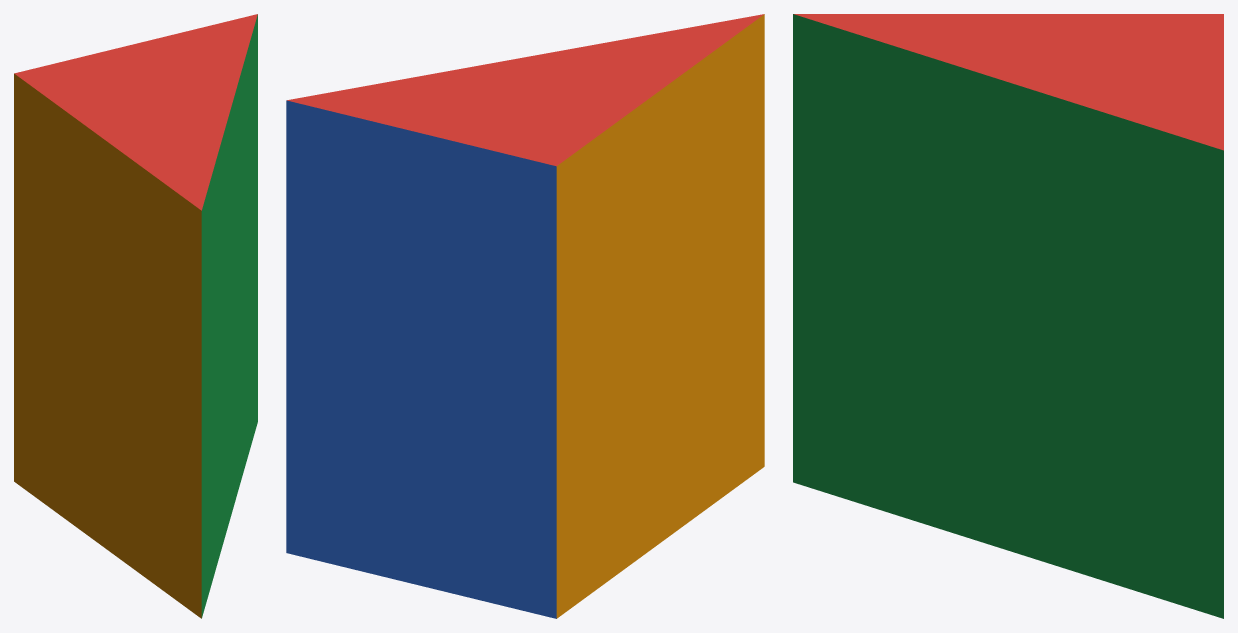
File: prisma-segitiga-siku.glb
3 renders of one model, left to right at view 1: azimuth 30°, elevation 25°; view 2: azimuth 150°, elevation 25°; view 3: azimuth 270°, elevation 25°, orthographic. The views are drawn at different scales.
Parts seen in each view (by area): view 1: tegak3, tegak2, atas; view 2: tegak1, tegak3, atas; view 3: tegak2, atas.
Part boxes in pixels (x1=…): tegak3: x1=14, y1=73, x2=201, y2=618; tegak2: x1=201, y1=14, x2=257, y2=618; atas: x1=14, y1=14, x2=257, y2=210; tegak1: x1=286, y1=100, x2=556, y2=618; tegak3: x1=556, y1=14, x2=764, y2=618; atas: x1=287, y1=14, x2=763, y2=166; tegak2: x1=793, y1=14, x2=1223, y2=618; atas: x1=794, y1=14, x2=1223, y2=150.
Size of the model in its own units: 1.5 by 2.4 by 2.
